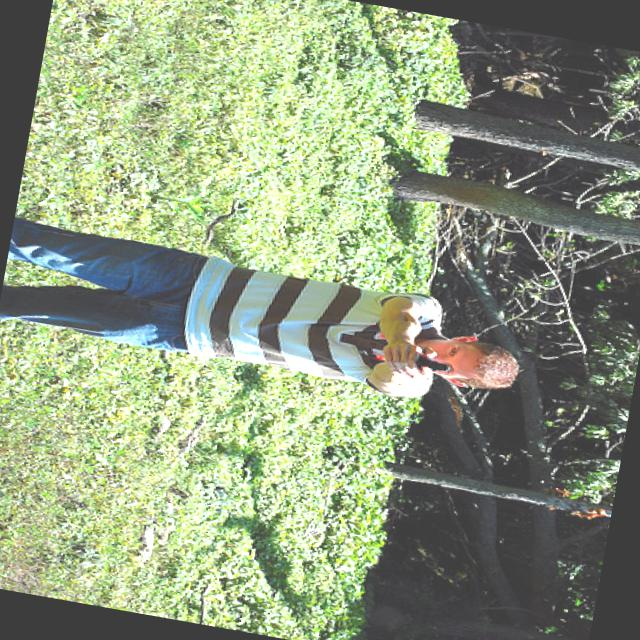handgun: (414, 354, 455, 374)
